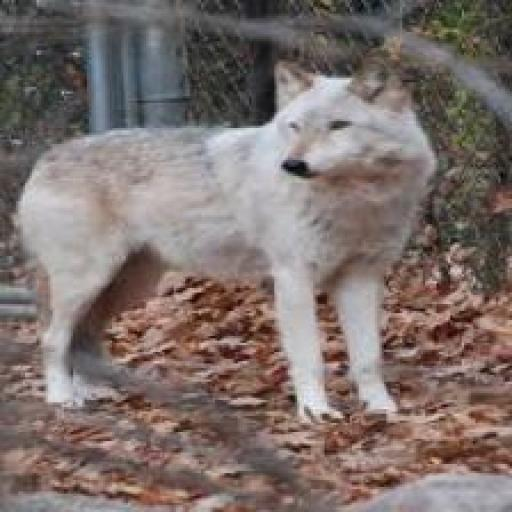wolf: (0, 43, 446, 446)
